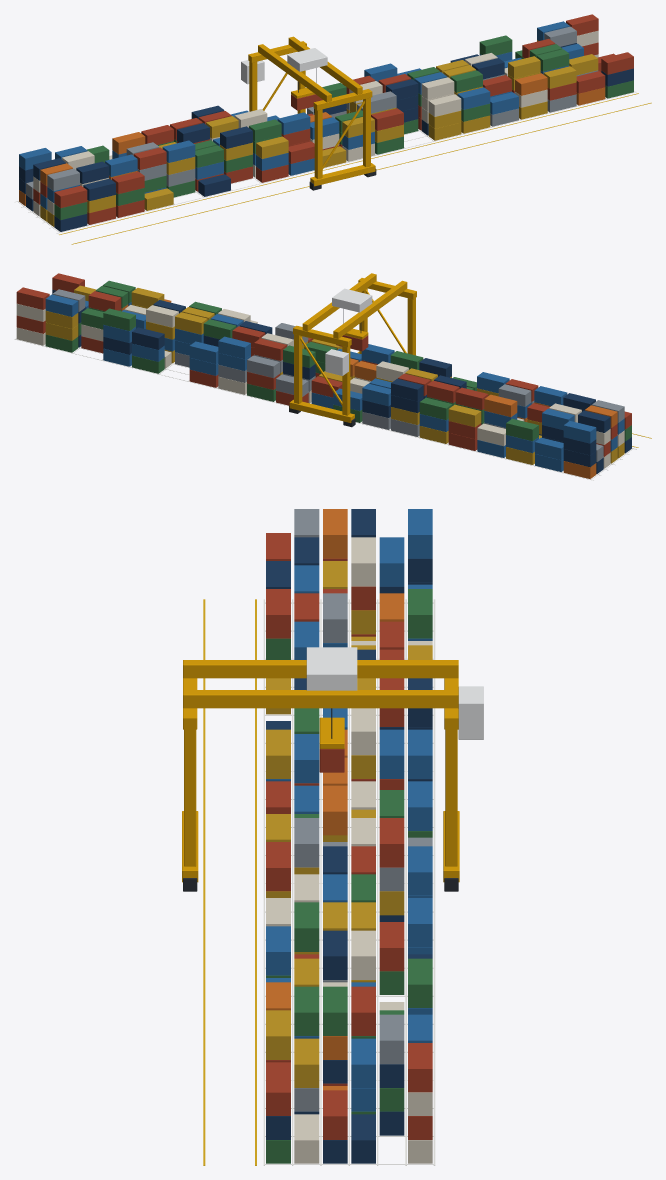
Rendered from patio.glb.
3 renders of one model, top to bottom at view 1: azimuth 30°, elevation 25°; view 2: azimuth 150°, elevation 25°; view 3: azimuth 270°, elevation 25°, orthographic. The views are drawn at different scales.
Visible parts, largest first — view 1: bloque_patio, grua_rtg; view 2: bloque_patio, grua_rtg; view 3: bloque_patio, grua_rtg.
Part boxes in pixels (bbox=[...]): bloque_patio: bbox=[14, 14, 651, 244]; grua_rtg: bbox=[241, 36, 376, 190]; bloque_patio: bbox=[14, 273, 651, 480]; grua_rtg: bbox=[289, 273, 416, 427]; bloque_patio: bbox=[203, 509, 435, 1165]; grua_rtg: bbox=[182, 647, 483, 891].
Size of the model in its own units: 132 by 21.8 by 29.8.
